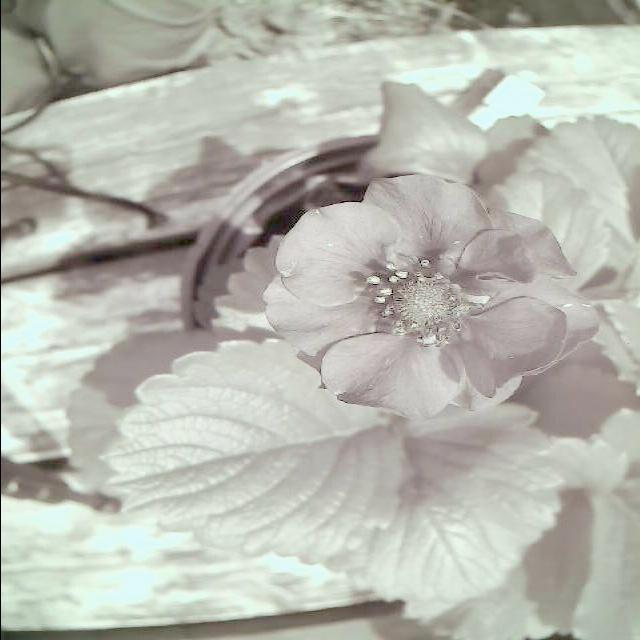flower: (262, 171, 578, 419)
